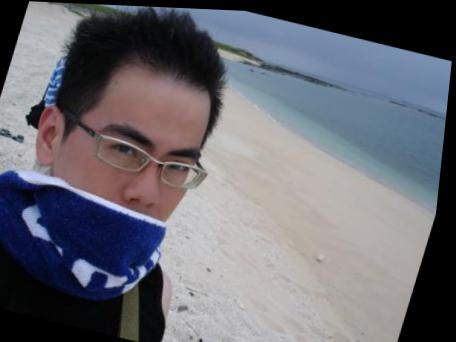WRONG: (52, 91, 222, 280)
